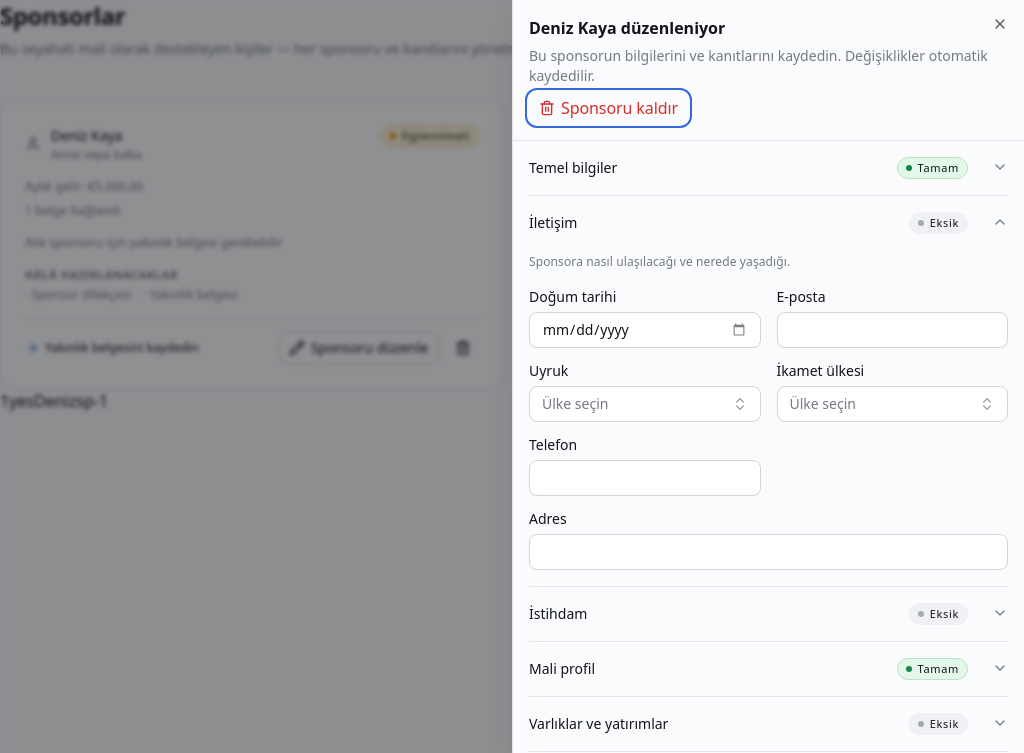
Test: Sponsors workspace — safe removal › confirms removal without deleting linked documents or leaving stale params
Click the button "Sponsoru kaldır" at (608, 108), box [529,92,688,124]
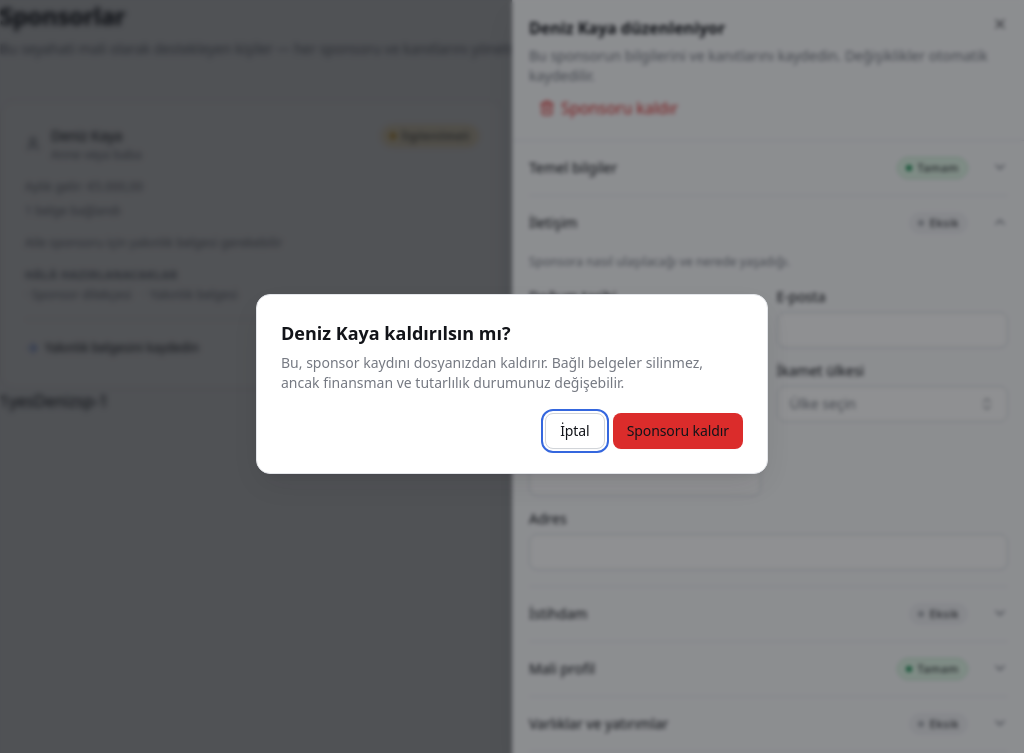
Click the button "Sponsoru kaldır" at (678, 431), box [613,413,743,449]
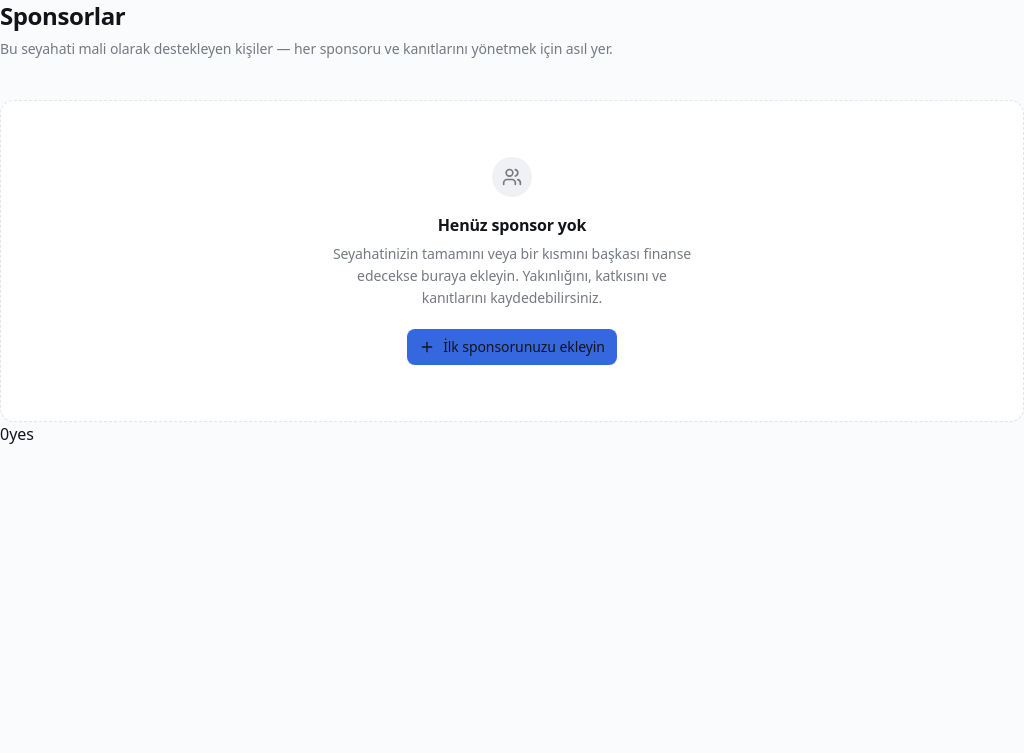
expect the text with test id "doc-l1" reads "yes": met, box [9,423,34,445]
expect the text with test id "sponsor-count" reads "0": met, box [0,423,9,445]
